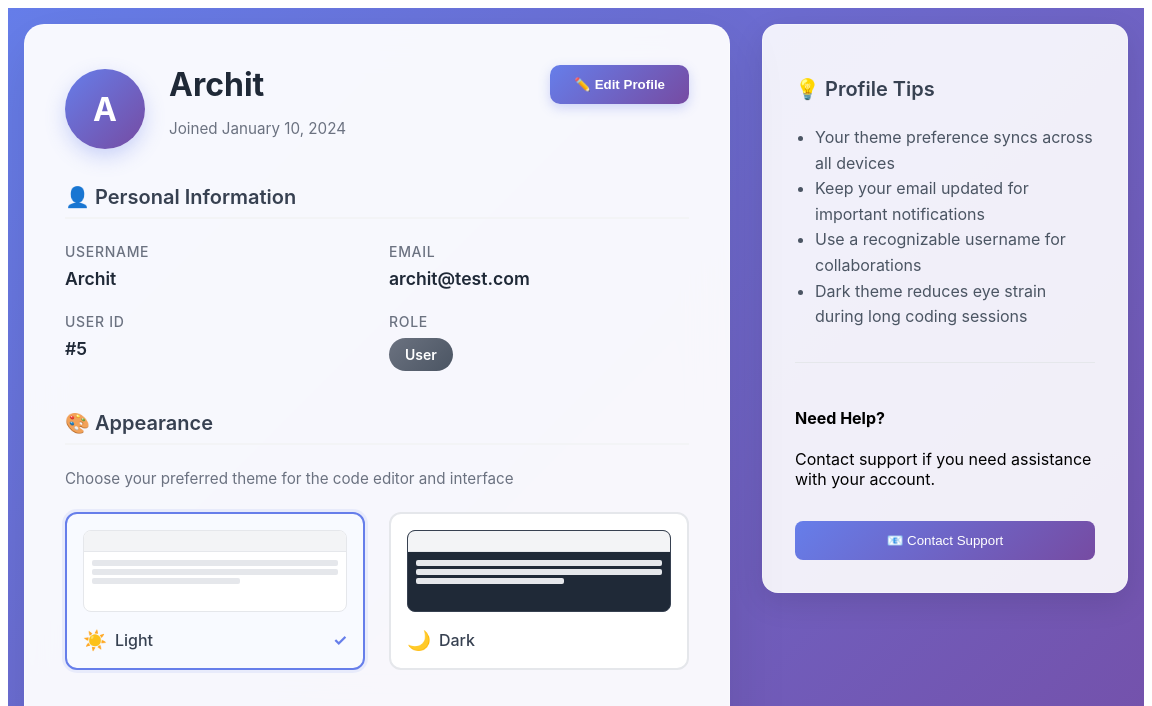
Profile Page › handles theme update failure and reverts theme
What coordinates should you click on to do the following:
click the text "Dark"
I would click on:
 (457, 640)
Its box is [439,630,475,650].
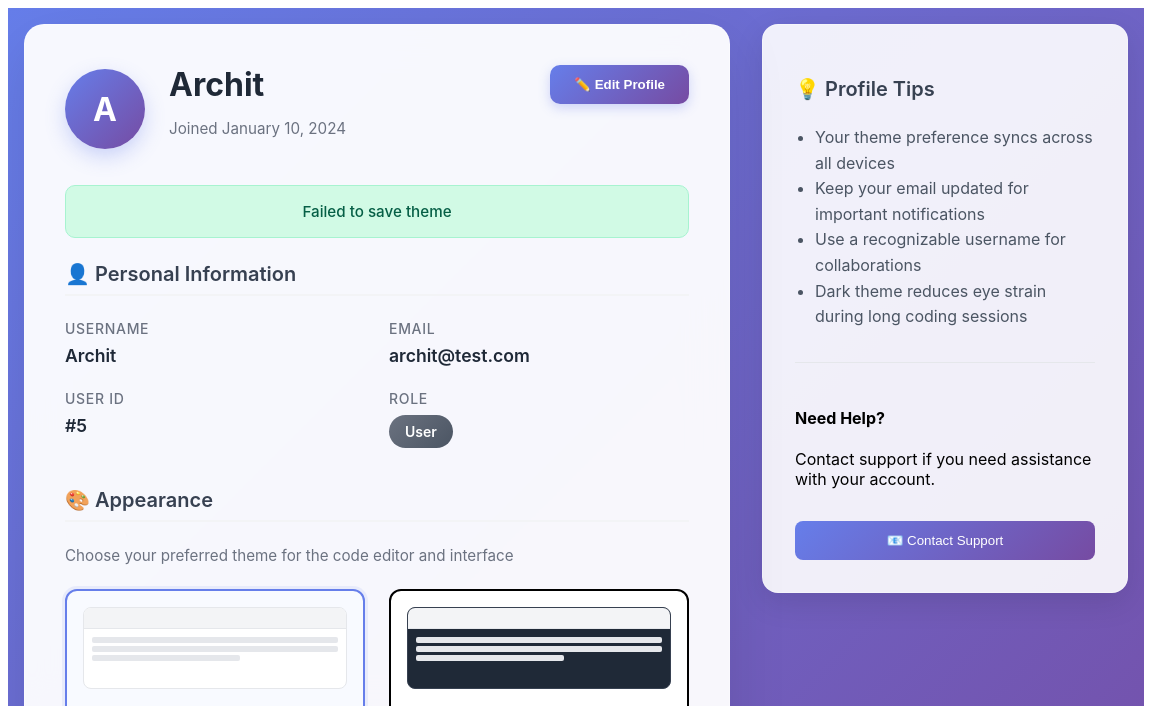
Expected: the text "Failed to save theme" is shown, [65,185,689,238]
